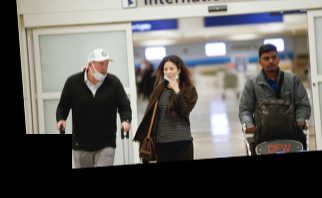mask_weared_incorrect: (90, 59, 109, 77), (162, 64, 178, 80)
without_mask: (260, 52, 279, 71)
